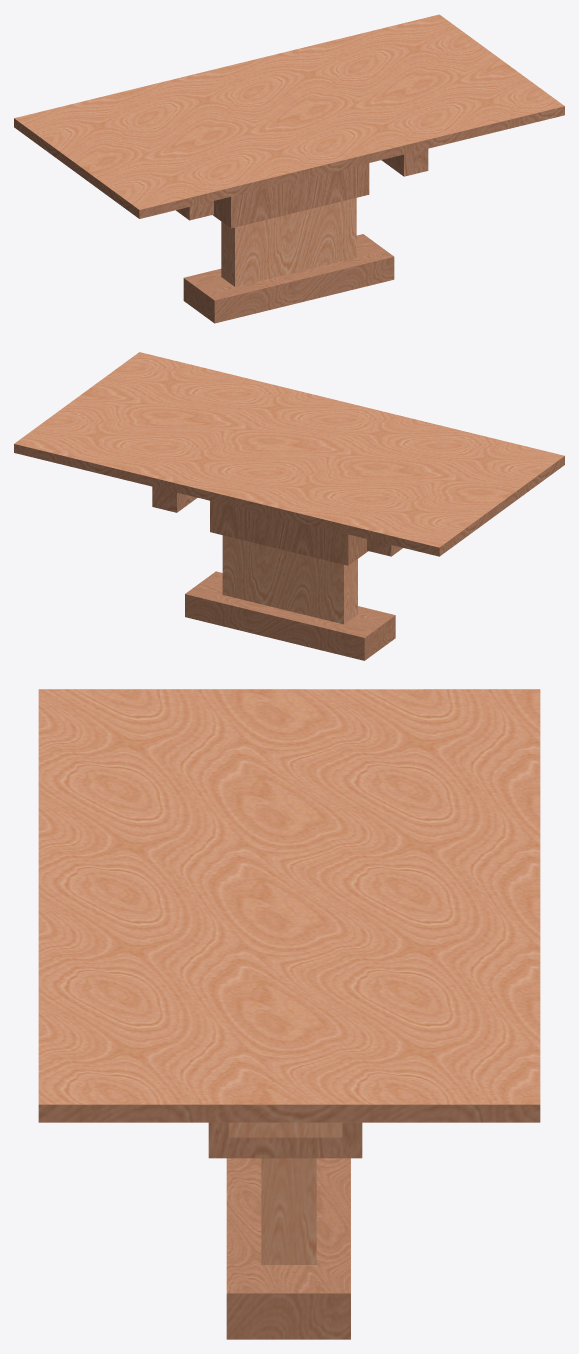
Rendered from table.fbx.
The picture shows the model from 3 angles, top to bottom: view 1: azimuth 30°, elevation 25°; view 2: azimuth 150°, elevation 25°; view 3: azimuth 270°, elevation 25°; orthographic projection. The views are drawn at different scales.
Visible parts, largest first — view 1: Componen29; view 2: Componen29; view 3: Componen29.
Part boxes in pixels (x1,y1,x2,y2): Componen29: [14, 14, 564, 323]; Componen29: [14, 352, 564, 660]; Componen29: [38, 689, 540, 1339].
Size of the model in its own units: 109 by 55.69 by 43.52.
